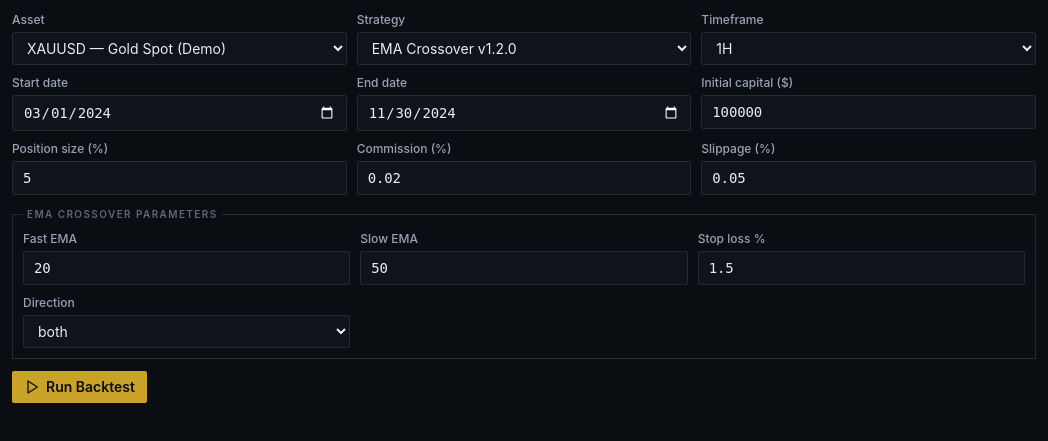
it: BacktestForm › blocks submission and shows errors when dates are invalid
Type "2024-01-01" into the date field labelled "End date".
click(524, 113); type("2024-01-01")  # box left=357, top=95, right=691, bottom=131
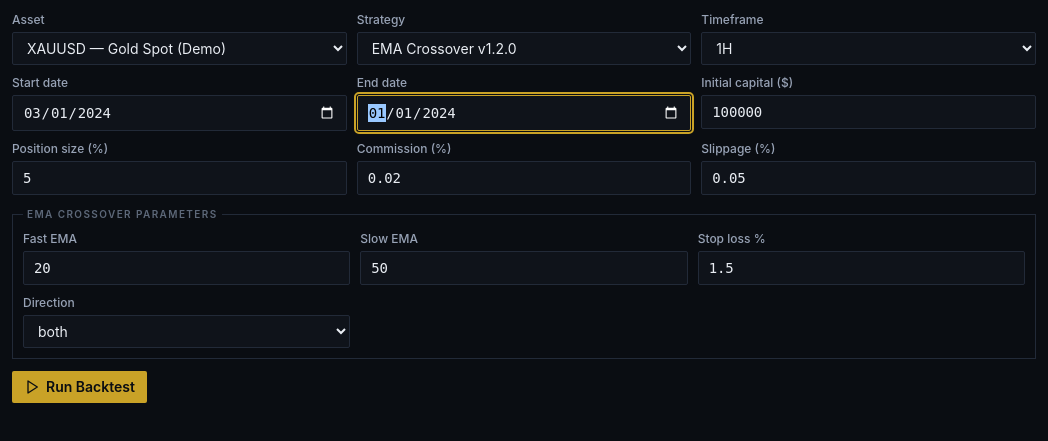
Click the button "Run Backtest".
click(79, 387)  # box left=12, top=371, right=147, bottom=403
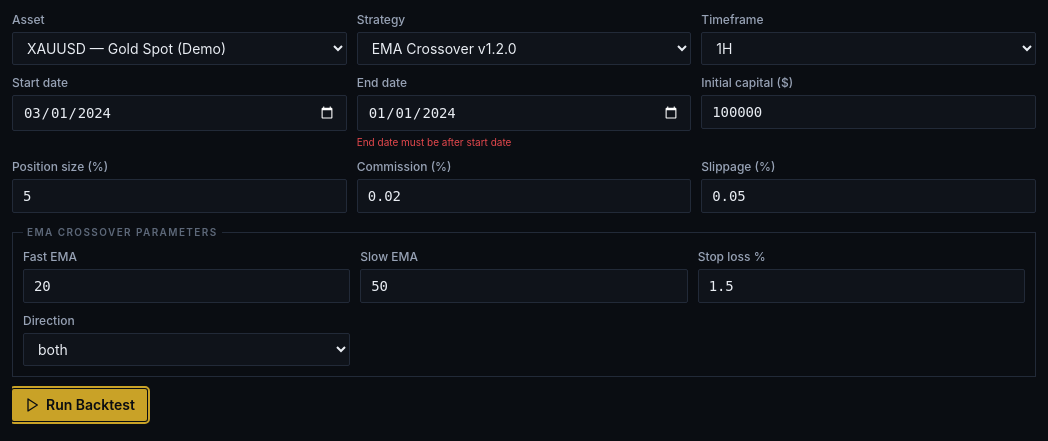
expect the text "End date must be after start date" is shown: met, box left=357, top=136, right=511, bottom=148
